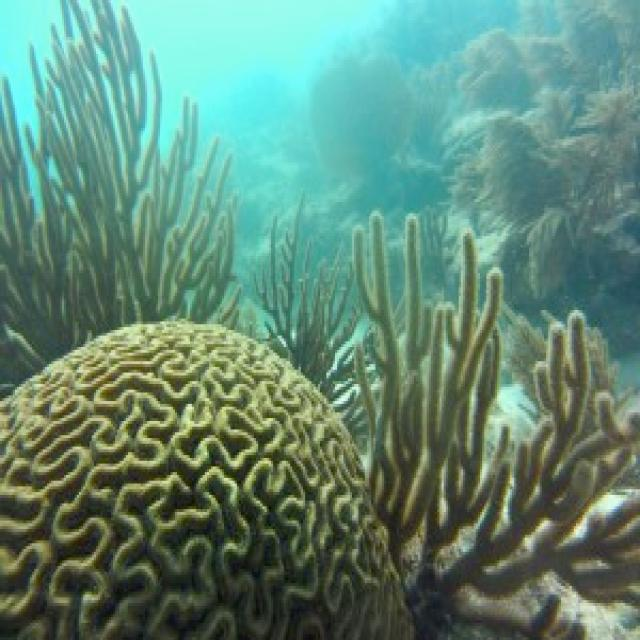Coral: (0, 320, 415, 640), (352, 206, 640, 640), (0, 0, 243, 398), (252, 188, 383, 456)
